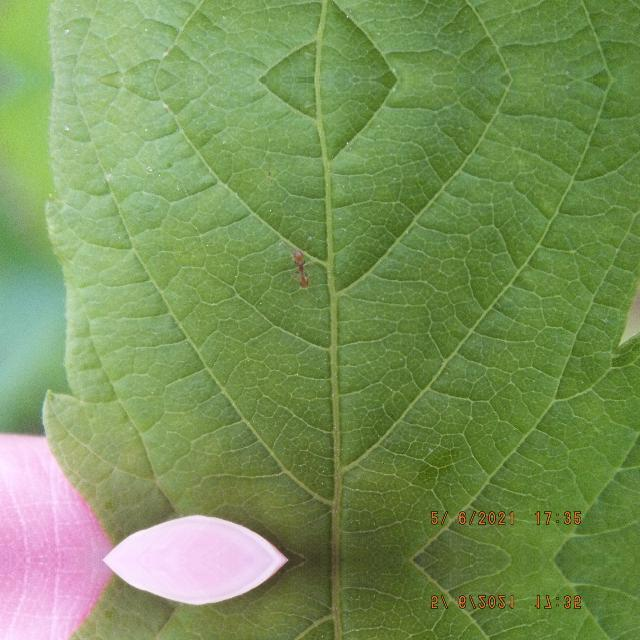Temnothorax: (284, 247, 316, 290)
